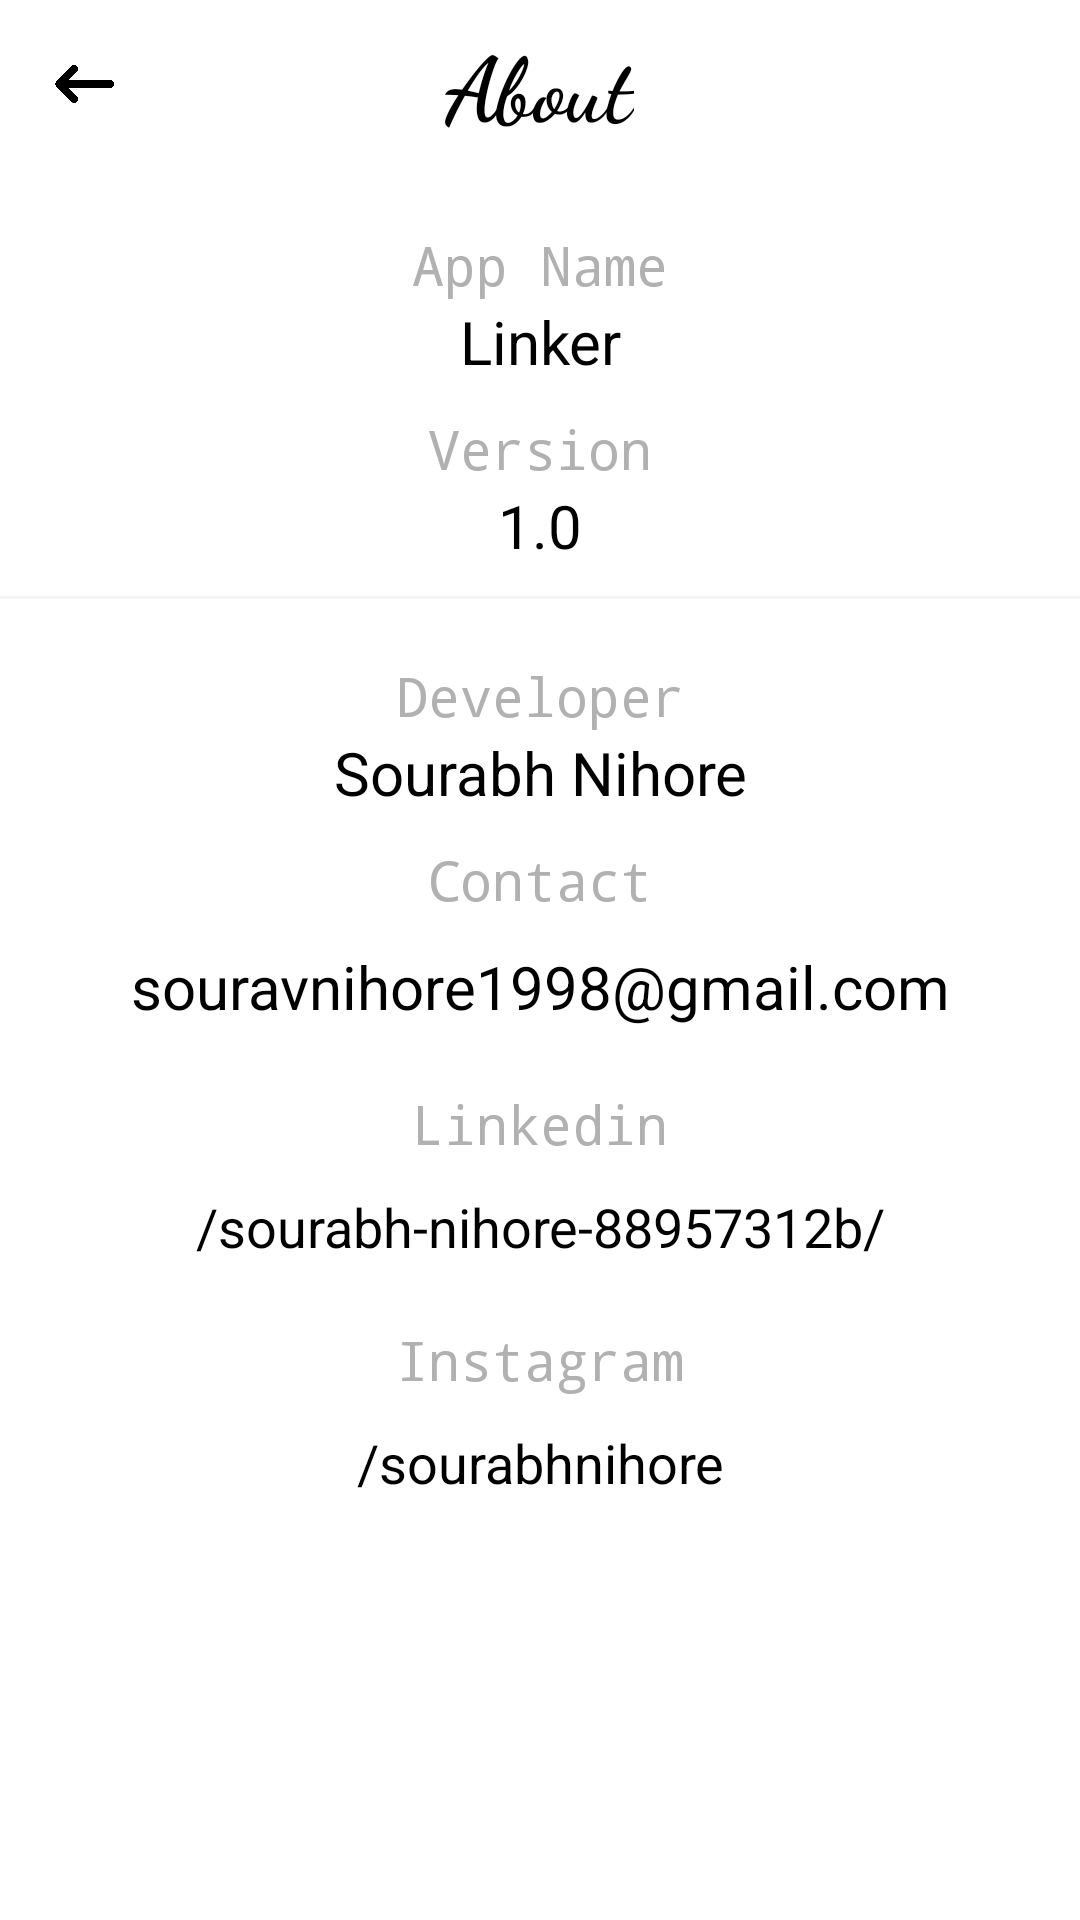

Icons on this 1080px x 1920px Android screen, each with the point to tap as point (x, y):
back: point (84, 84)
